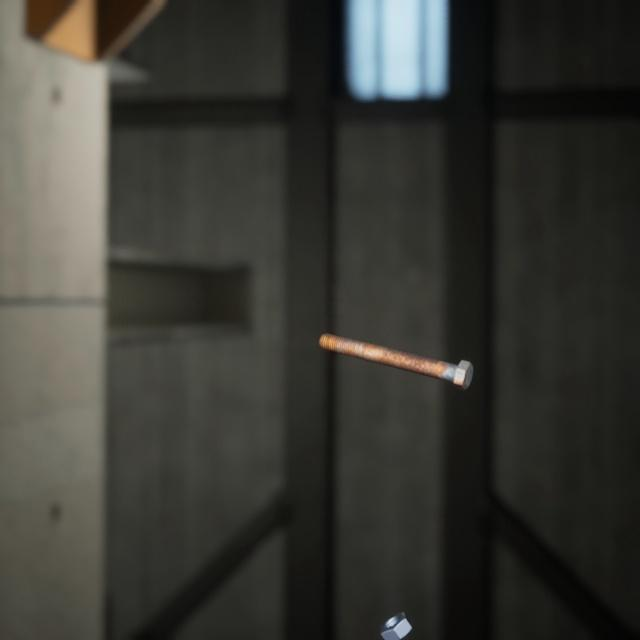bolt: (314, 311, 477, 377)
nut: (375, 585, 416, 625)
